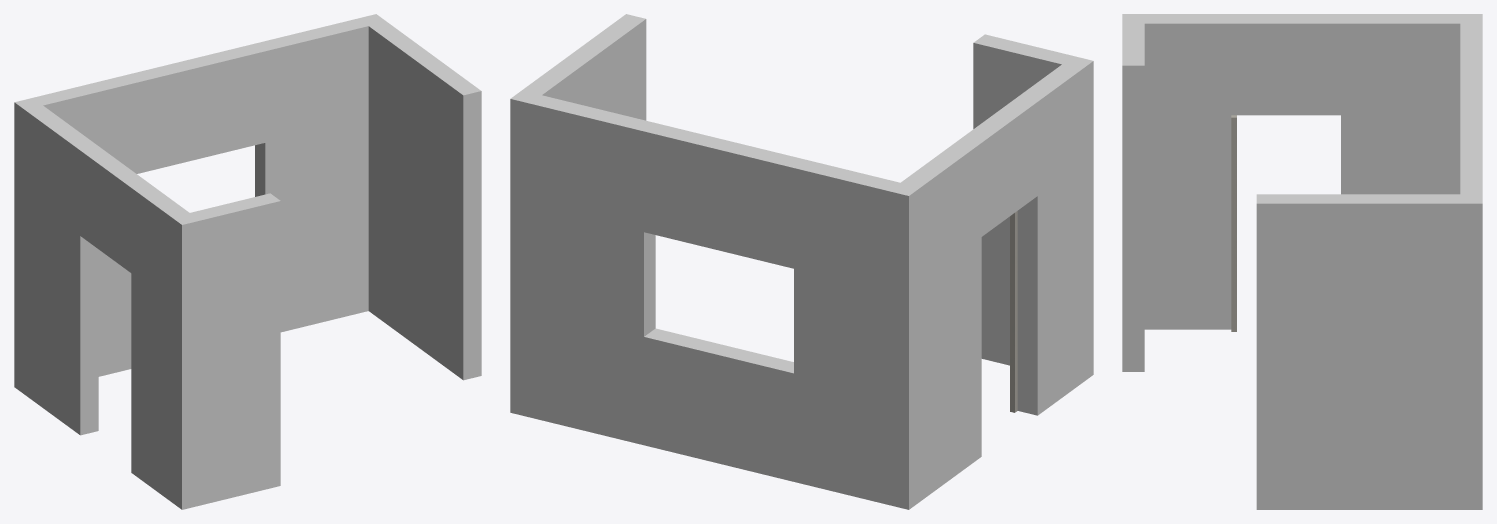
File: migrant 17.fbx
The picture shows the model from 3 angles, left to right: view 1: azimuth 30°, elevation 25°; view 2: azimuth 150°, elevation 25°; view 3: azimuth 270°, elevation 25°; orthographic projection. The views are drawn at different scales.
Visible parts, largest first — view 1: Cube.004, Cube.002; view 2: Cube.004, Cube.002; view 3: Cube.004, Cube.002.
Part boxes in pixels (box(x1,y1,x2,y2)): Cube.004: box(14, 14, 481, 501); Cube.002: box(171, 193, 280, 509); Cube.004: box(510, 14, 1081, 509); Cube.002: box(973, 34, 1093, 382); Cube.004: box(1144, 14, 1482, 509); Cube.002: box(1122, 14, 1144, 371).
Size of the model in its own units: 399 by 300 by 320.
2 materials, 1 textured.
